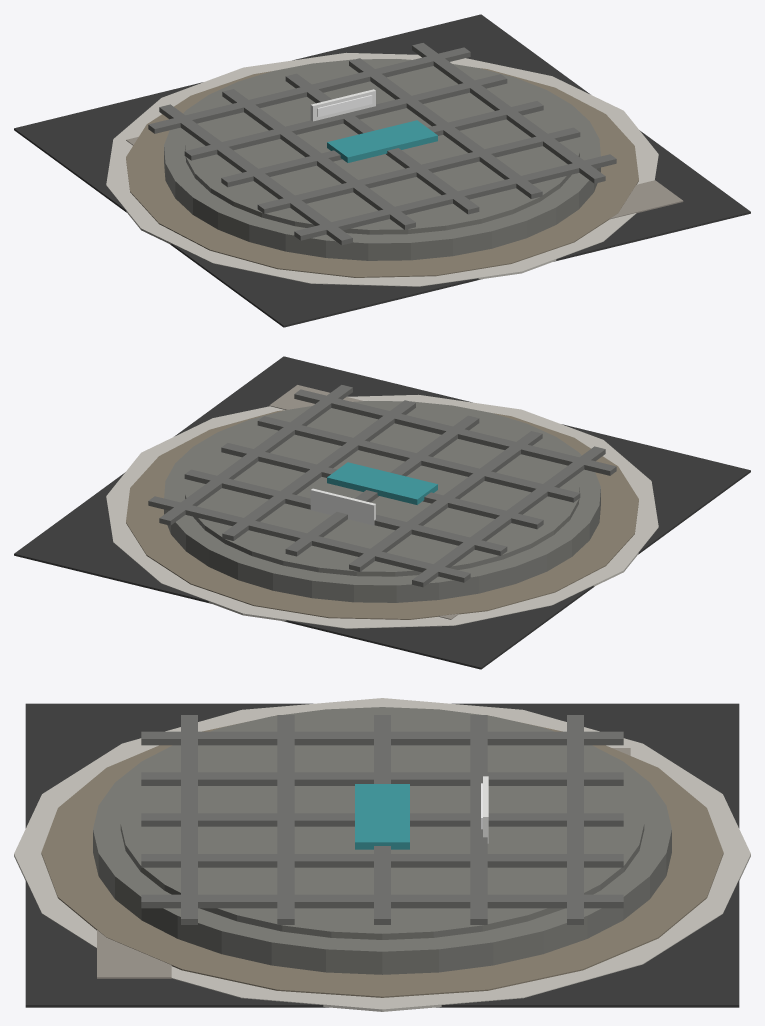
File: hm_prop_manhole_v2.glb
3 renders of one model, top to bottom at view 1: azimuth 30°, elevation 25°; view 2: azimuth 150°, elevation 25°; view 3: azimuth 270°, elevation 25°, orthographic. The views are drawn at different scales.
Visible parts, largest first — view 1: MH_Cover, hm_prop_manhole_v2_Shadow, hm_prop_manhole_v2_Dirt, MH_Ring, hm_prop_manhole_v2_SaltRing, MH_BarX_1, MH_BarX_0, MH_BarX_4, MH_BarX_3, MH_BarY_0, MH_BarY_3, MH_BarY_1 (+7 smaller); view 2: MH_Cover, hm_prop_manhole_v2_Shadow, hm_prop_manhole_v2_Dirt, MH_Ring, hm_prop_manhole_v2_SaltRing, MH_BarX_4, MH_BarX_0, MH_BarX_1, MH_BarX_3, MH_BarY_4, MH_BarY_0, MH_BarY_1 (+6 smaller); view 3: MH_Cover, hm_prop_manhole_v2_Shadow, hm_prop_manhole_v2_Dirt, MH_Ring, hm_prop_manhole_v2_SaltRing, MH_BarY_4, MH_BarY_0, MH_BarY_3, MH_BarY_1, MH_BarY_2, MH_Plate, MH_BarX_1 (+5 smaller).
Part boxes in pixels (box(x1,y1,x2,y2)): MH_Cover: box(185, 63, 579, 234); hm_prop_manhole_v2_Shadow: box(14, 14, 750, 327); hm_prop_manhole_v2_Dirt: box(126, 68, 638, 277); MH_Ring: box(164, 59, 600, 260); hm_prop_manhole_v2_SaltRing: box(106, 52, 658, 286); MH_BarX_1: box(257, 127, 580, 213); MH_BarX_0: box(294, 154, 616, 240); MH_BarX_4: box(148, 47, 470, 133); MH_BarX_3: box(184, 74, 507, 160); MH_BarY_0: box(159, 104, 352, 245); MH_BarY_3: box(349, 58, 542, 198); MH_BarY_1: box(222, 89, 415, 229); MH_Cover: box(185, 405, 579, 576); hm_prop_manhole_v2_Shadow: box(14, 356, 750, 669); hm_prop_manhole_v2_Dirt: box(126, 410, 638, 619); MH_Ring: box(164, 401, 600, 602); hm_prop_manhole_v2_SaltRing: box(106, 394, 658, 628); MH_BarX_4: box(148, 496, 470, 582); MH_BarX_0: box(294, 389, 616, 475); MH_BarX_1: box(257, 416, 580, 502); MH_BarX_3: box(184, 469, 507, 555); MH_BarY_4: box(159, 385, 352, 525); MH_BarY_0: box(412, 446, 605, 587); MH_BarY_1: box(349, 431, 542, 571); MH_Cover: box(120, 712, 644, 939); hm_prop_manhole_v2_Shadow: box(25, 703, 739, 1007); hm_prop_manhole_v2_Dirt: box(41, 715, 723, 997); MH_Ring: box(93, 707, 671, 974); hm_prop_manhole_v2_SaltRing: box(14, 698, 750, 1011); MH_BarY_4: box(141, 894, 623, 908); MH_BarY_0: box(141, 731, 623, 745); MH_BarY_3: box(141, 854, 623, 867); MH_BarY_1: box(141, 772, 623, 785); MH_BarY_2: box(141, 813, 623, 826); MH_Plate: box(355, 784, 409, 849); MH_BarX_1: box(277, 715, 294, 924).
Size of the model in its own units: 1.07 by 0.0965 by 1.07.
